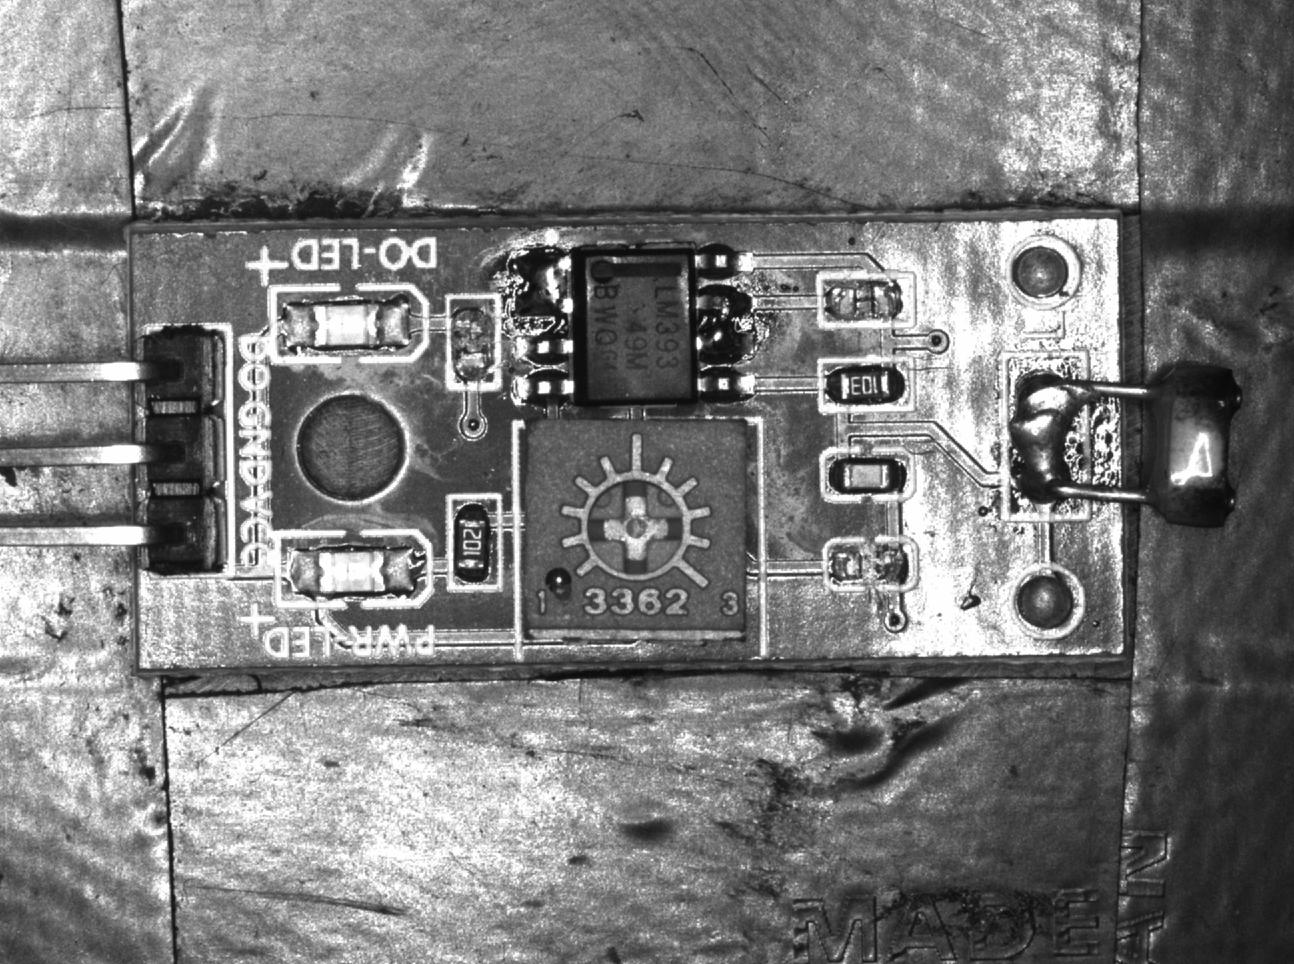bridge: (1001, 351, 1094, 521), (508, 245, 574, 325), (694, 280, 755, 365)
miss: (819, 271, 918, 329), (819, 538, 918, 594), (449, 293, 499, 391)
ok: (820, 354, 916, 418), (821, 451, 919, 506), (449, 495, 499, 595)
